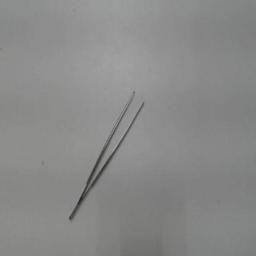Gillies Toothed Dissector: (66, 82, 154, 226)
